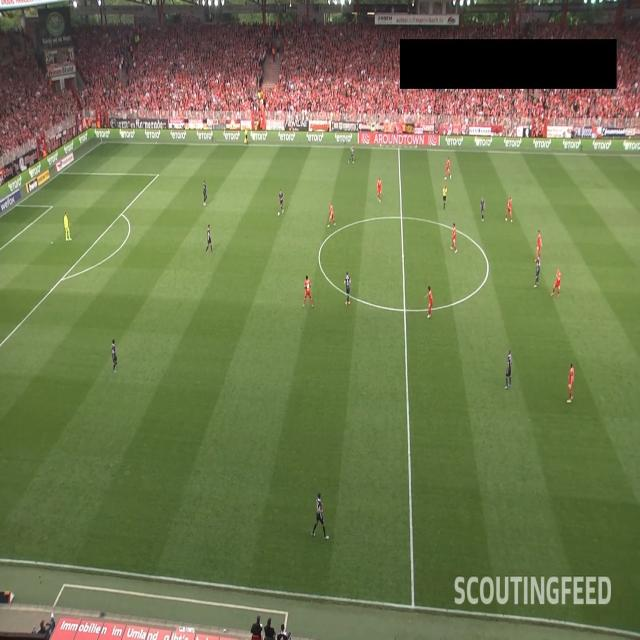ball: (277, 210, 280, 217)
